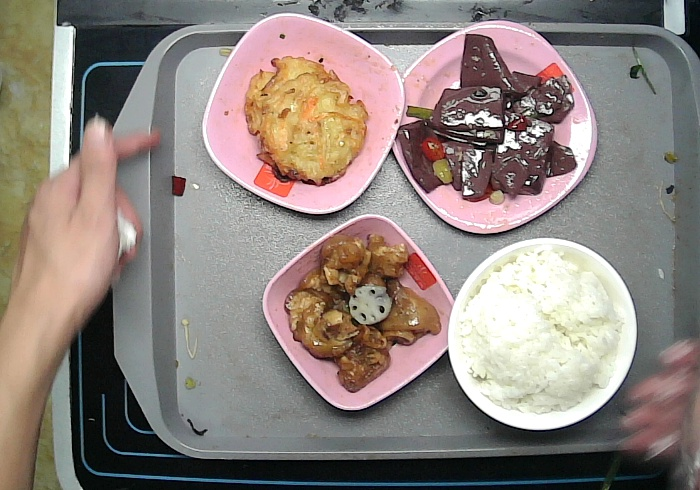SHKJ-Fan_Wan: (443, 235, 640, 433)
SHKJ-Fen_Se_Cai_Die: (198, 10, 407, 218)
SHKJ-Fen_Se_Si_Fang_Cai_Die: (386, 18, 601, 239)
SHKJ-Fen_Se_Xiao_Fang_Die: (260, 211, 460, 412)
